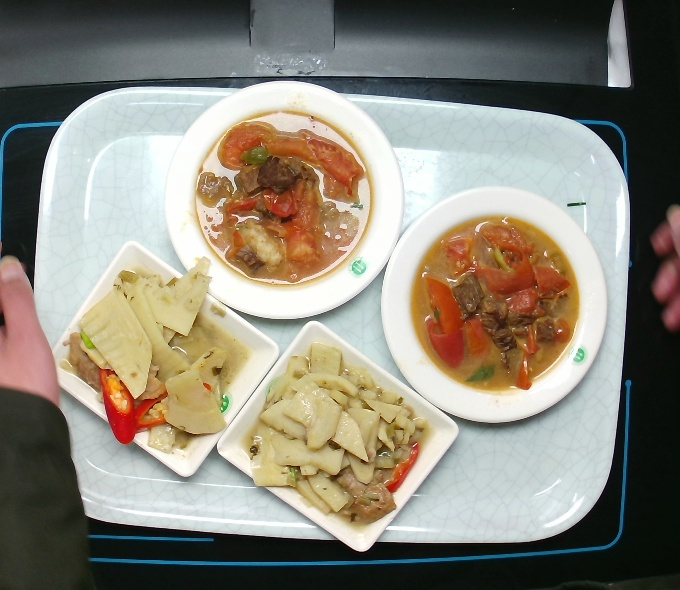wcq-DongSun: (66, 258, 248, 469), (240, 336, 432, 526)
wcq-FanQiwNiuRou: (402, 204, 579, 403), (200, 103, 370, 287)
